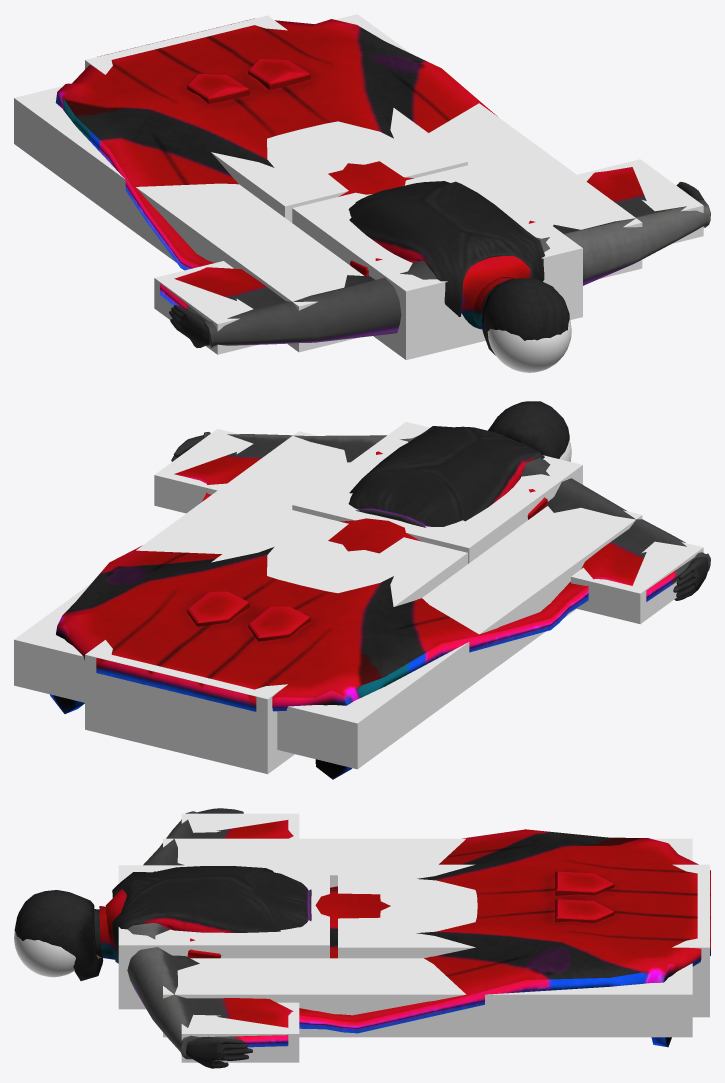
File: wsseg7.gltf
3 renders of one model, top to bottom at view 1: azimuth 30°, elevation 25°; view 2: azimuth 150°, elevation 25°; view 3: azimuth 270°, elevation 25°, orthographic. The views are drawn at different scales.
Visible parts, largest first — view 1: WS_V3, r1, center, Box, l1, r2, head, l2; view 2: WS_V3, Box, r1, l1, center, r2, l2; view 3: WS_V3, l1, Box, center, r1, l2, r2, head.
Boxes of the visible parts, box(x1,y1,x2,y2) form: WS_V3: box(55, 18, 710, 355); r1: box(14, 86, 363, 352); center: box(292, 165, 582, 359); Box: box(85, 15, 467, 222); l1: box(335, 14, 642, 278); r2: box(154, 261, 256, 354); head: box(487, 318, 571, 372); l2: box(577, 159, 703, 243); WS_V3: box(50, 401, 710, 779); Box: box(85, 508, 467, 774); r1: box(277, 506, 642, 769); l1: box(14, 431, 349, 702); center: box(292, 422, 582, 563); r2: box(571, 541, 703, 624); l2: box(154, 428, 253, 513); WS_V3: box(14, 808, 710, 1068); l1: box(163, 958, 692, 1037); Box: box(338, 864, 709, 1017); center: box(118, 865, 329, 1009); r1: box(163, 838, 692, 887); l2: box(181, 1002, 299, 1062); r2: box(181, 813, 299, 838); head: box(14, 931, 75, 977).
Bounding box in the file's own units: 2.82 × 0.6066 × 3.55.
Materials: 8 (1 with a texture image).
